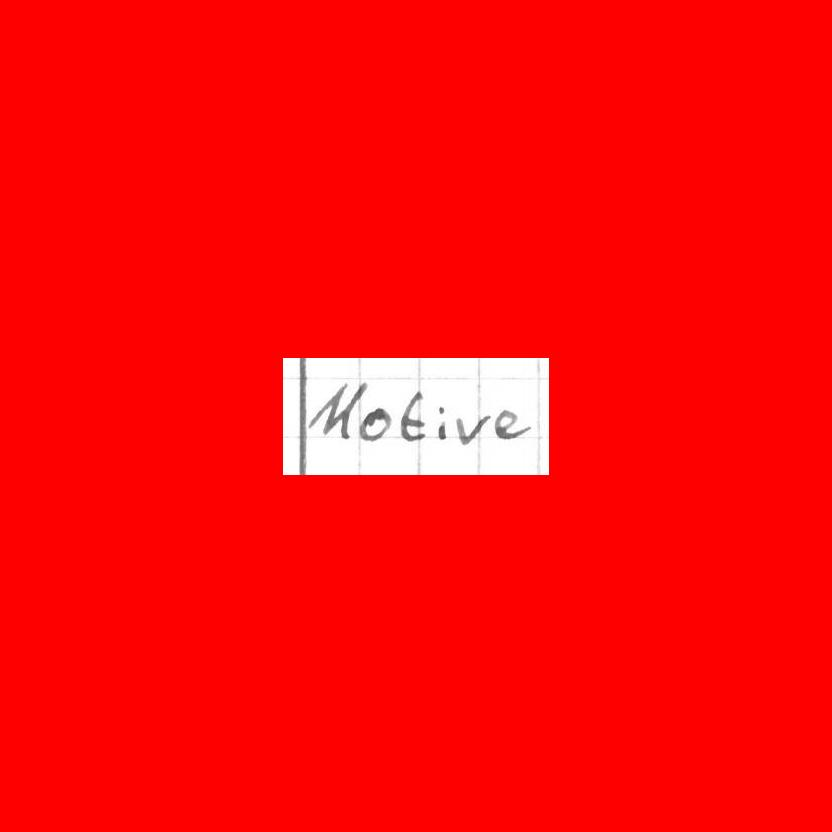Char: (309, 379, 365, 441), (399, 386, 427, 447), (493, 406, 533, 442), (357, 406, 392, 443), (455, 410, 489, 446), (435, 404, 448, 442)
